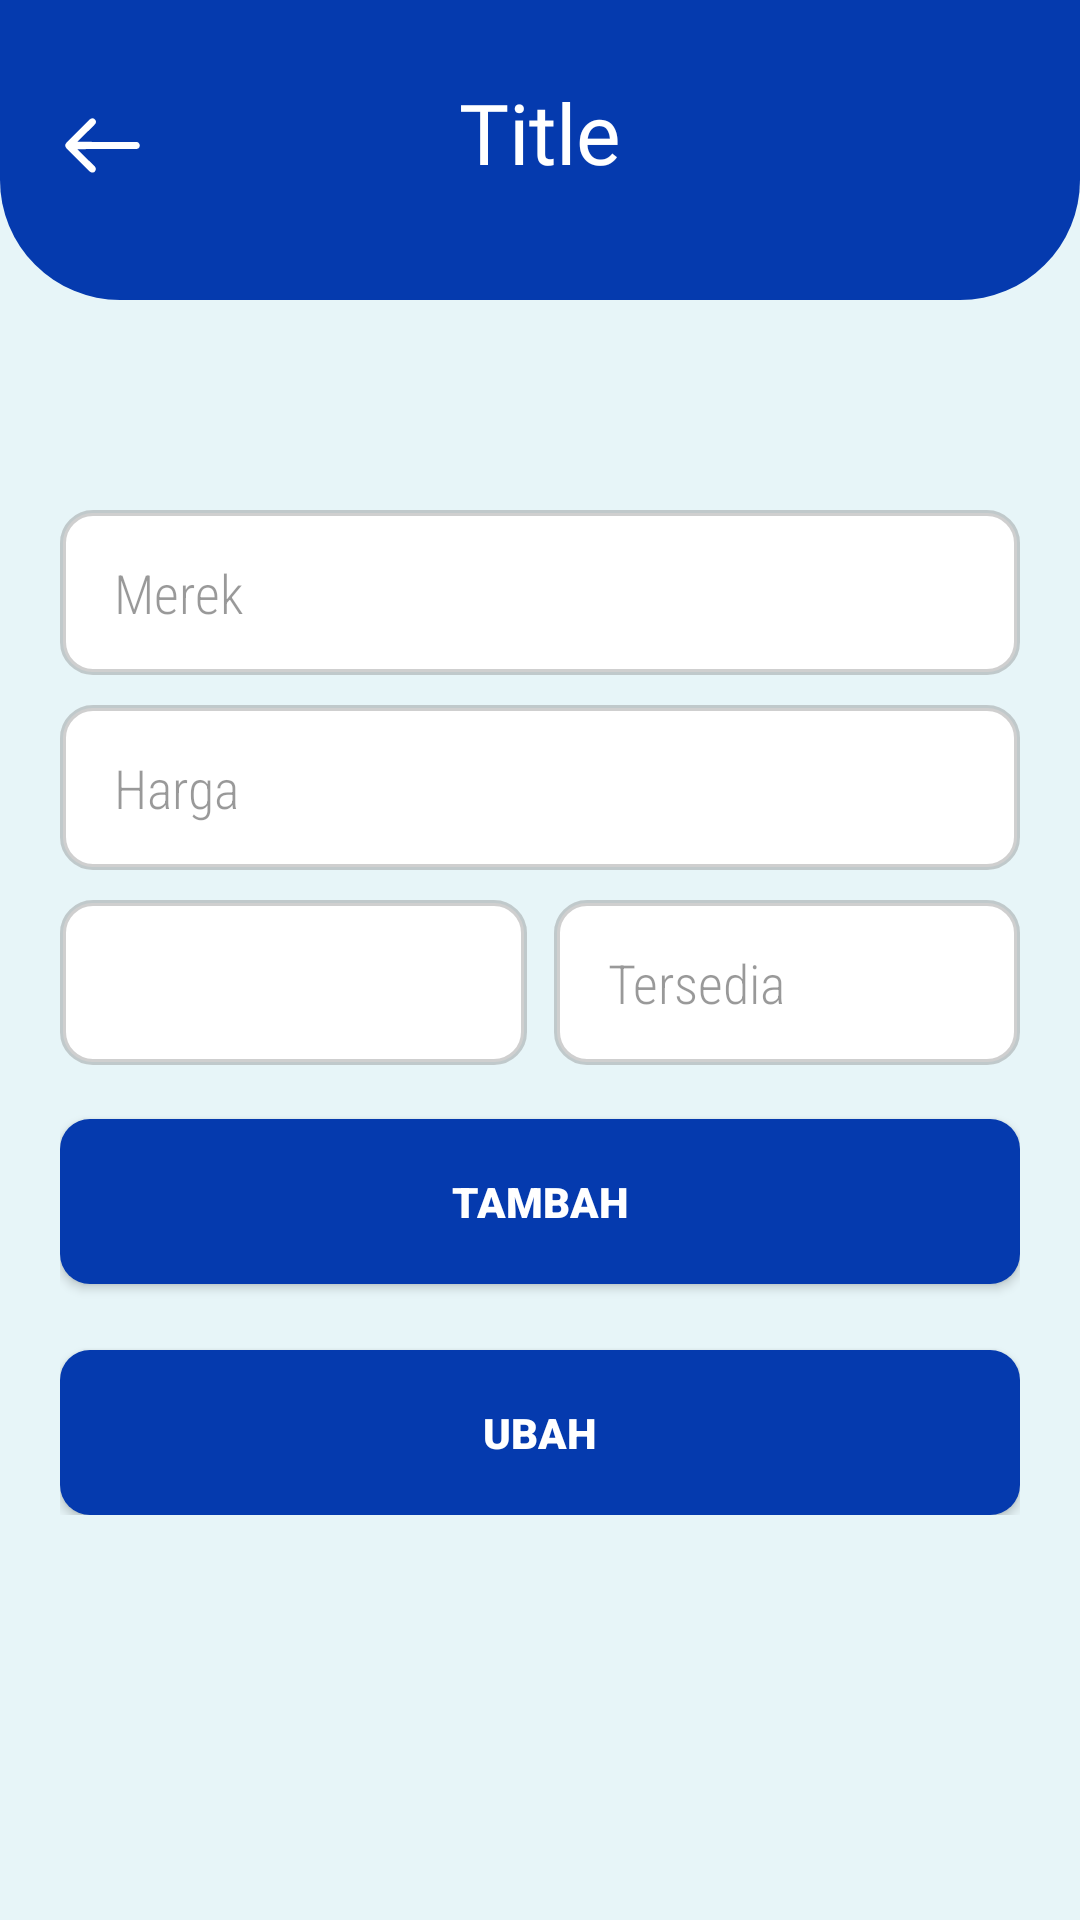

Icons on this 1080px x 1920px Android screen, each with its box as (x1, y1, x2, y2):
back putih: (65, 118, 140, 173)
